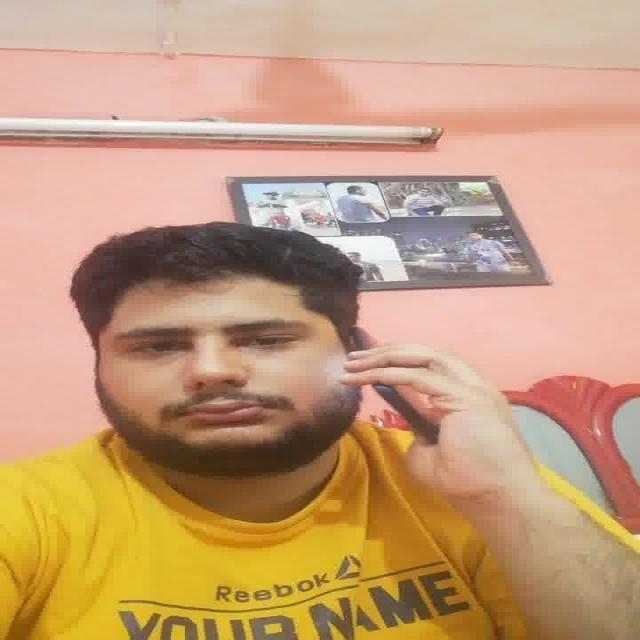Phone: (372, 377, 444, 448)
